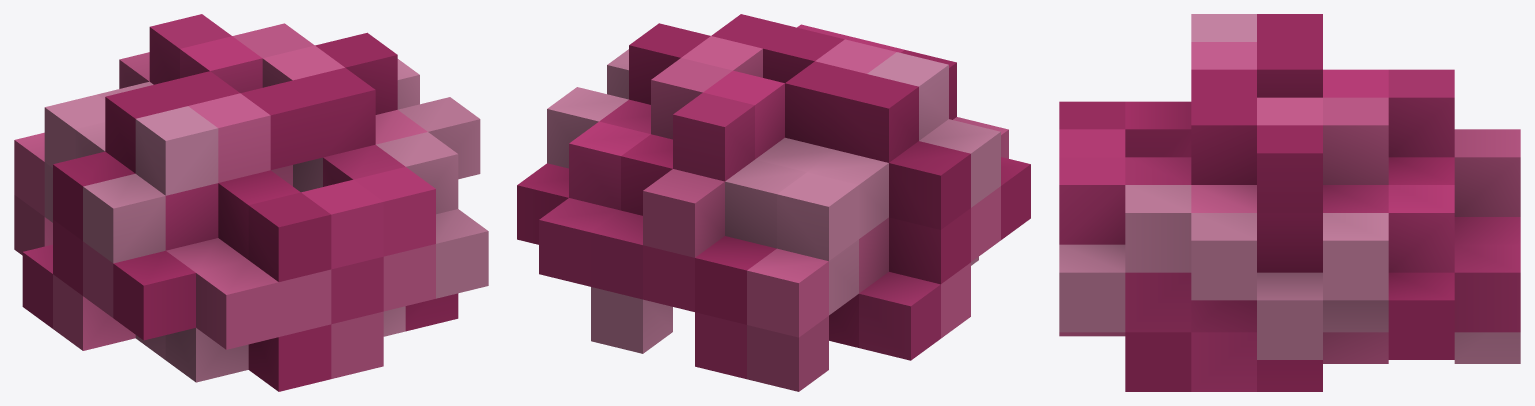
The model's file is bush_pink_1.glb.
3 views of the same model, side by side, from view 1: azimuth 30°, elevation 25°; view 2: azimuth 150°, elevation 25°; view 3: azimuth 270°, elevation 25° (orthographic). The views are drawn at different scales.
Parts seen in each view (by area): view 1: bush_pink_1; view 2: bush_pink_1; view 3: bush_pink_1.
Boxes of the visible parts, x1,y1,x2,y2 form: bush_pink_1: (14, 14, 488, 391); bush_pink_1: (517, 14, 1030, 391); bush_pink_1: (1059, 14, 1520, 391).
Size of the model in its own units: 0.5833 by 0.3333 by 0.5833.
